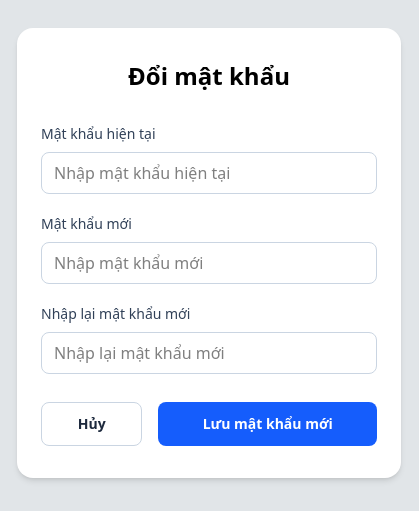
Scenario: ChangePassword Page › Edge cases › submit_shouldShowServerErrorOnCurrentPassword_whenServerSaysWrongCurrentPassword
The image size is (419, 511).
In the password field labelled "Mật khẩu hiện tại": coordinates (209, 173) [41, 152, 377, 194], type "WrongPass!1"
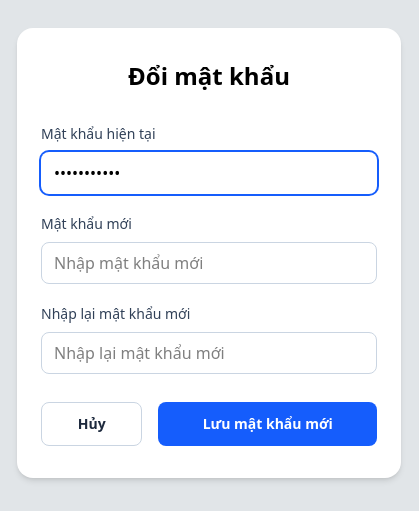
In the password field labelled "Mật khẩu mới": coordinates (209, 263) [41, 242, 377, 284], type "NewPass!1"
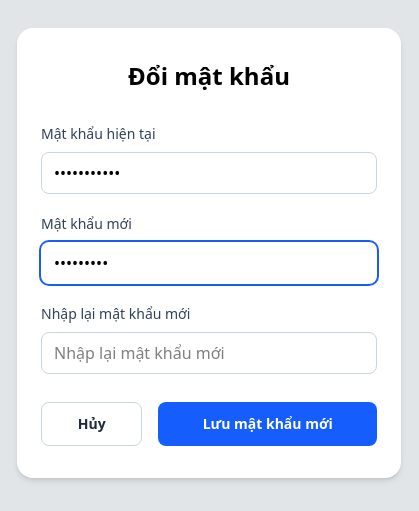
In the password field labelled "Nhập lại mật khẩu mới": coordinates (209, 353) [41, 332, 377, 374], type "NewPass!1"
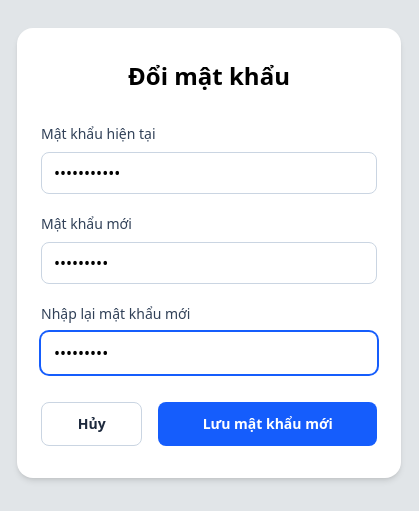
Click the button "Lưu mật khẩu mới": coordinates (268, 424) [158, 402, 377, 446]
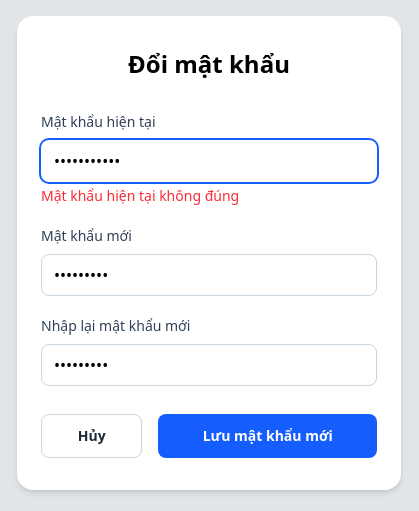
Expected: the text "Mật khẩu hiện tại không đúng" is shown, [41, 186, 239, 205]
